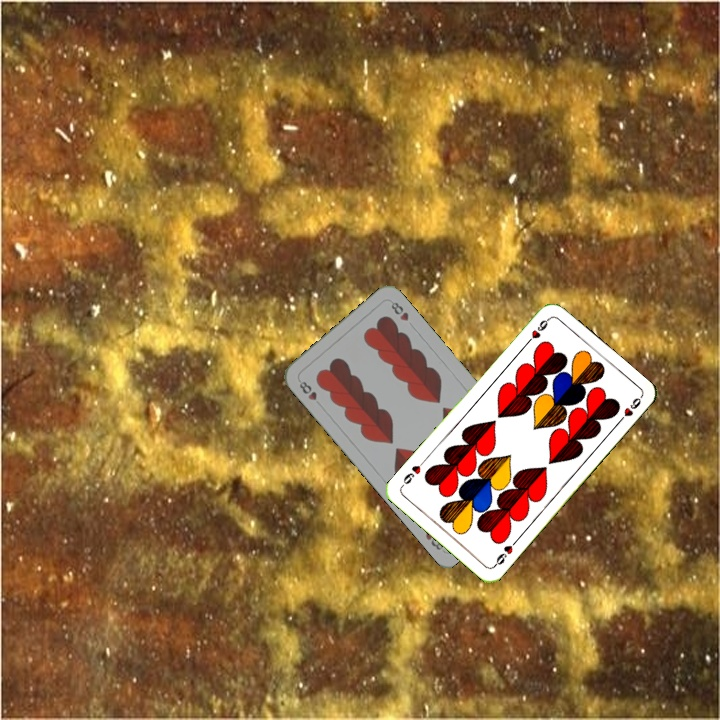H8: (295, 376, 325, 410)
H9: (521, 314, 552, 348), (490, 536, 520, 569)
